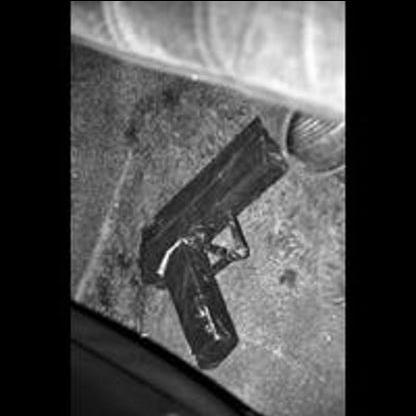weapon: (136, 112, 294, 372)
